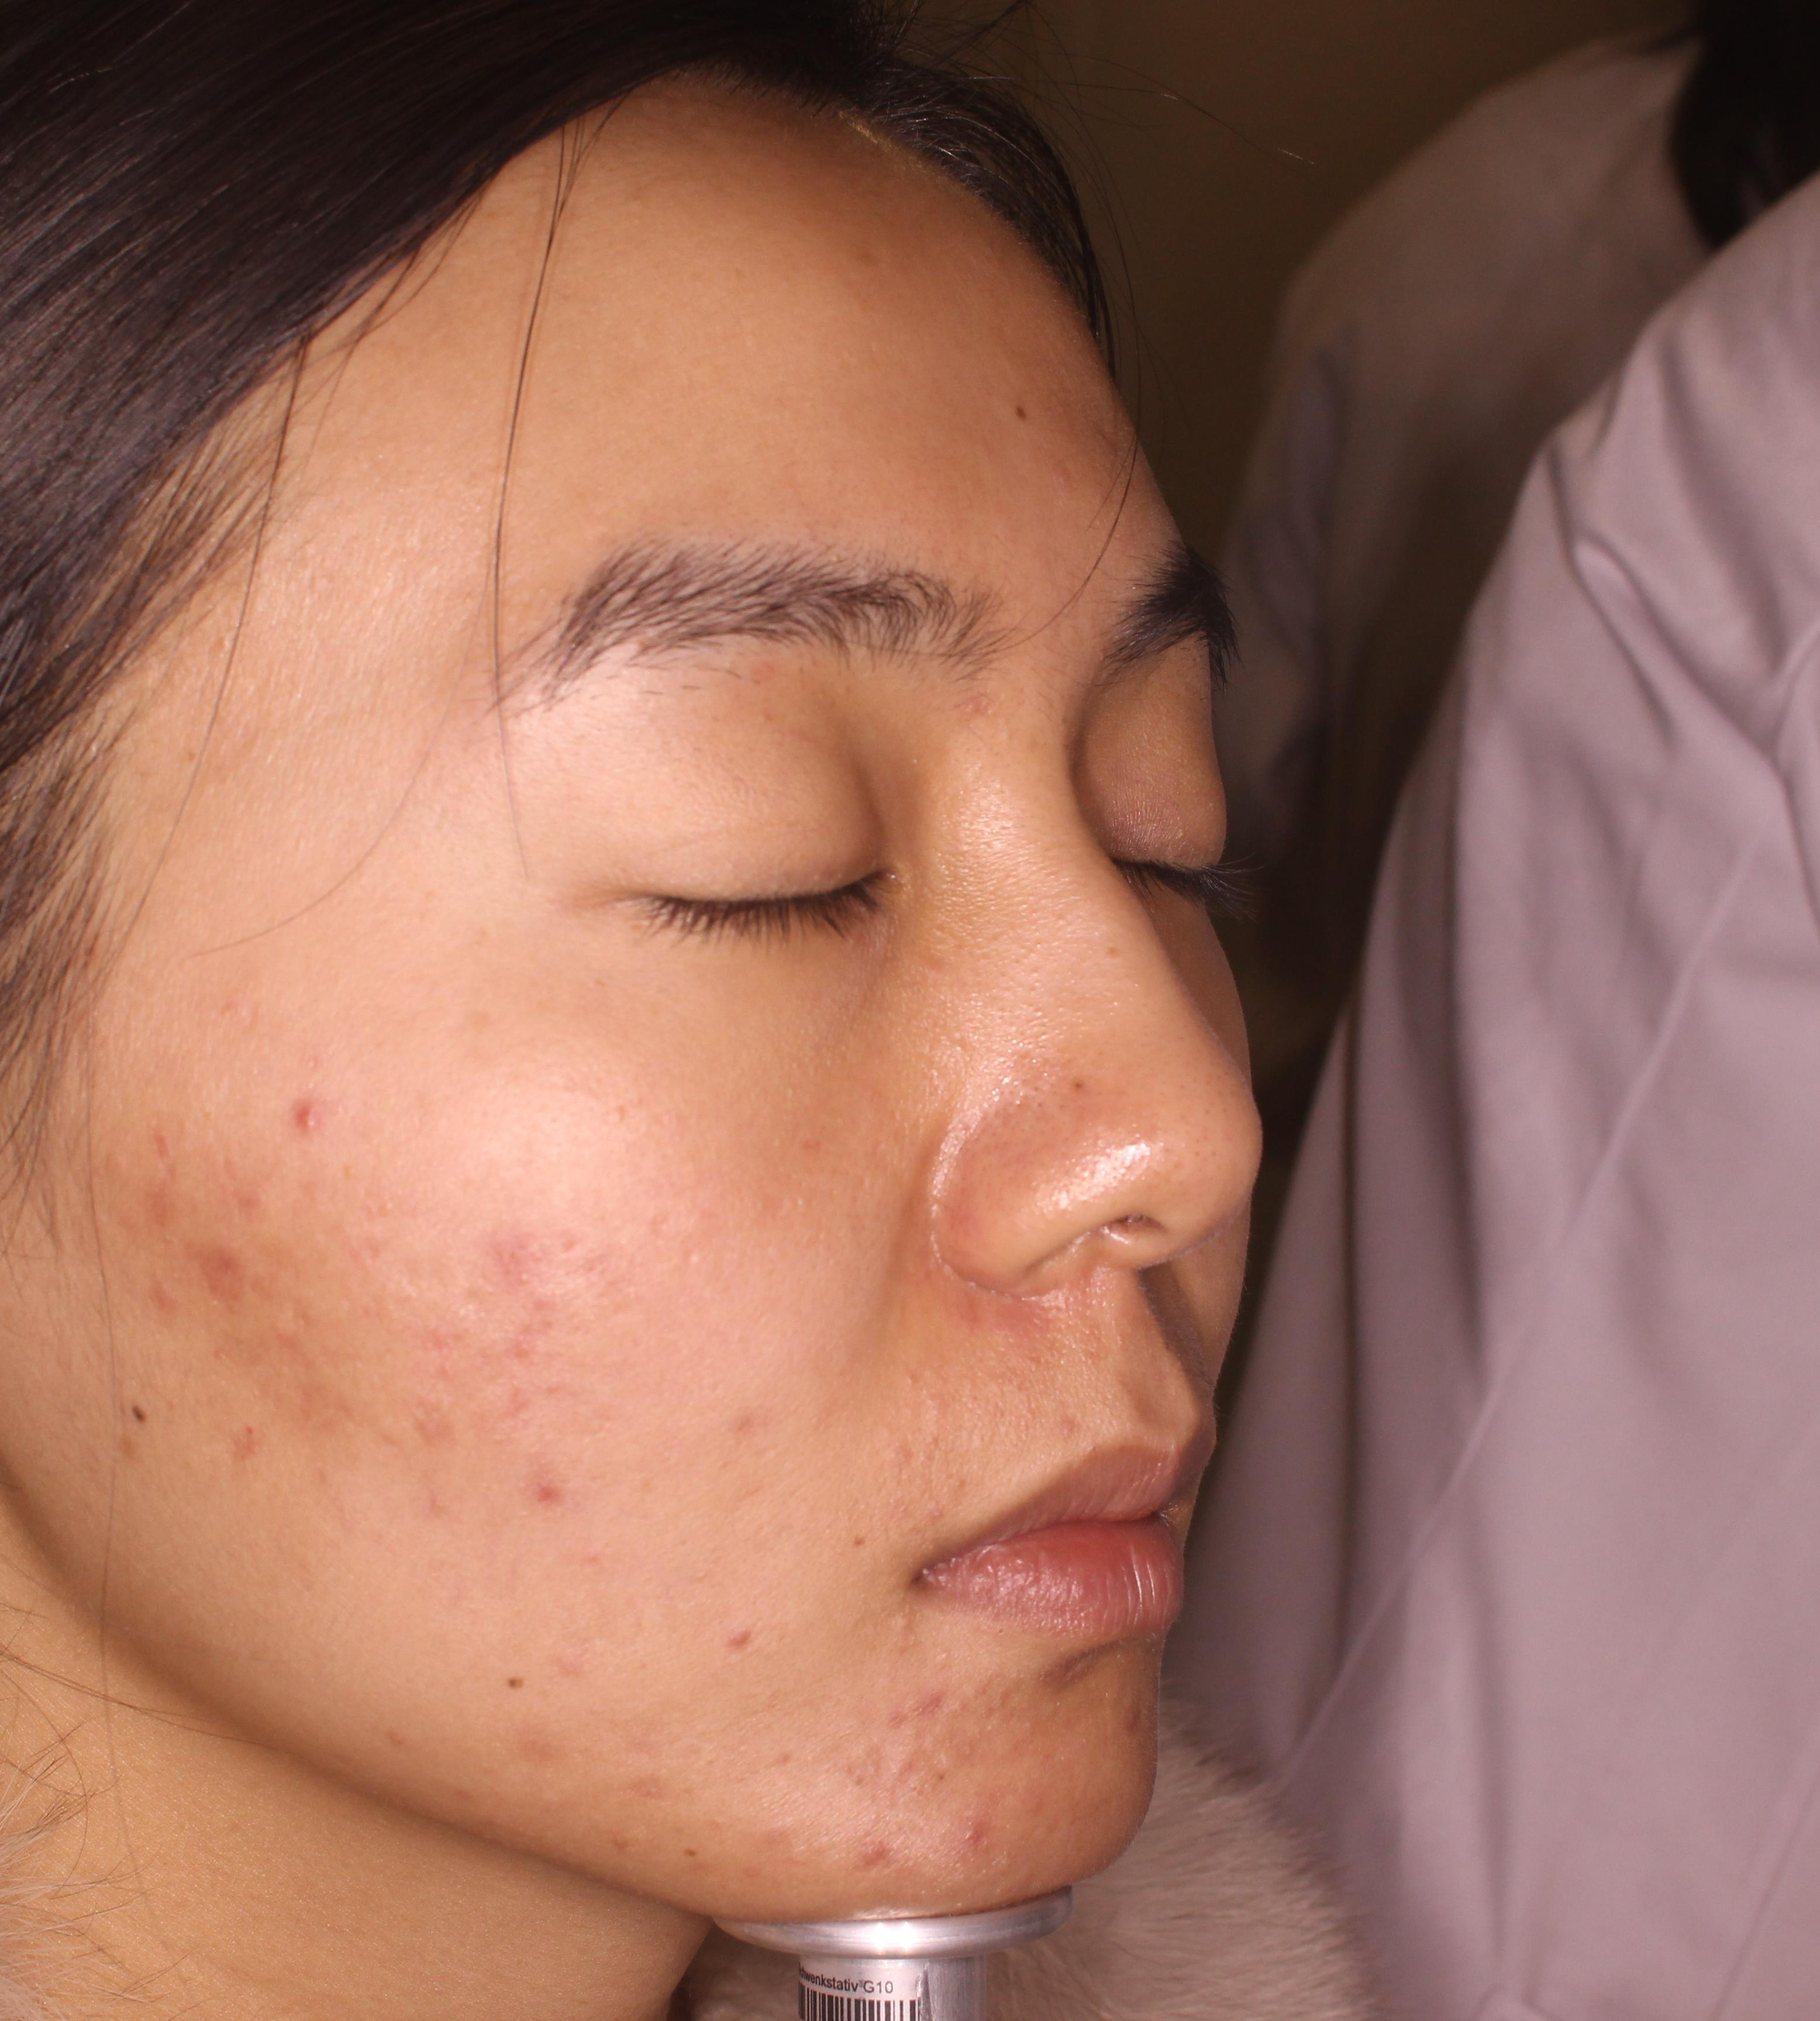fore: (176, 1222, 283, 1326), (467, 1213, 580, 1312), (118, 1133, 207, 1231), (892, 1670, 991, 1759), (459, 1315, 548, 1387), (502, 1447, 589, 1514), (843, 1814, 906, 1886), (274, 1061, 320, 1150), (271, 1245, 288, 1254)
